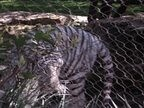tigre: (23, 23, 116, 108)
